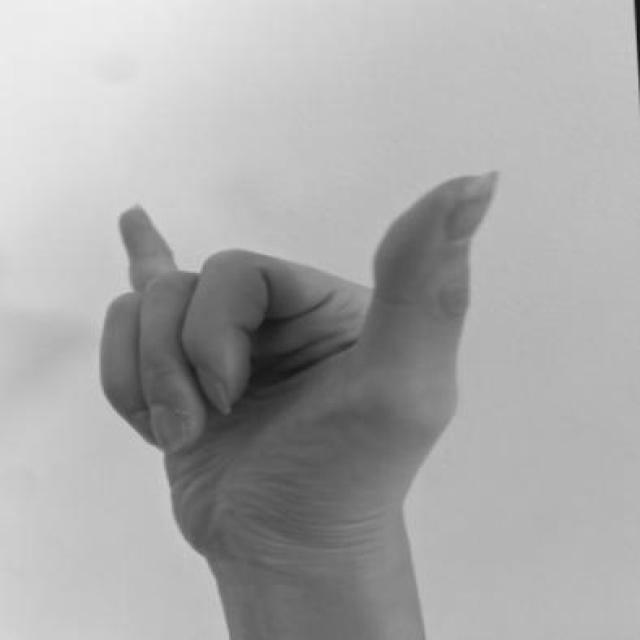Y: (79, 154, 525, 575)
